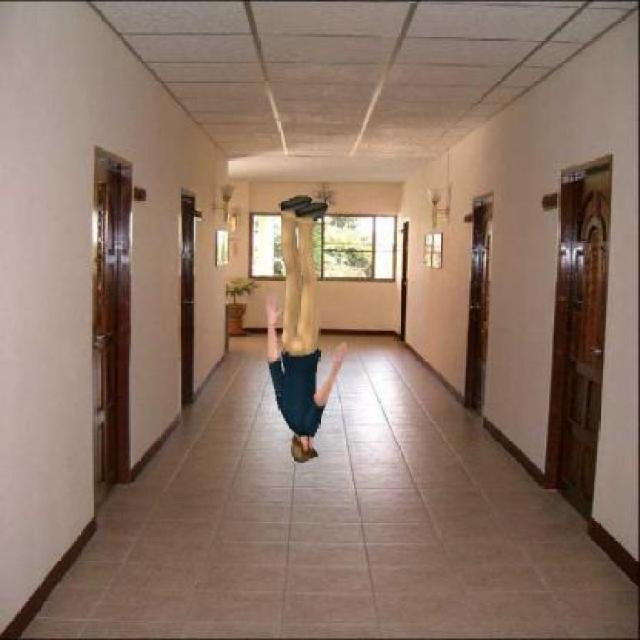Person: (262, 188, 349, 466)
